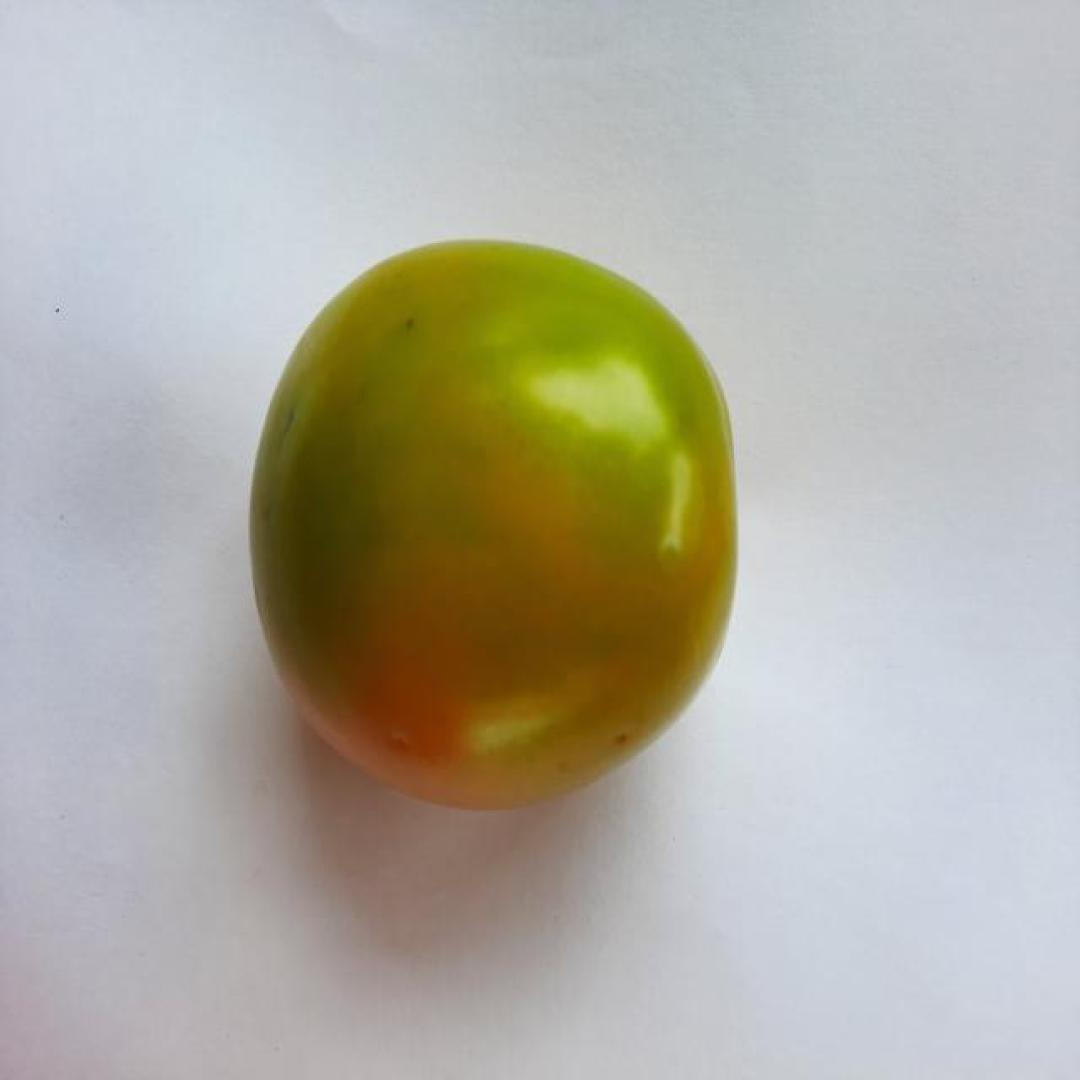setengah_matang: (241, 230, 751, 820)
